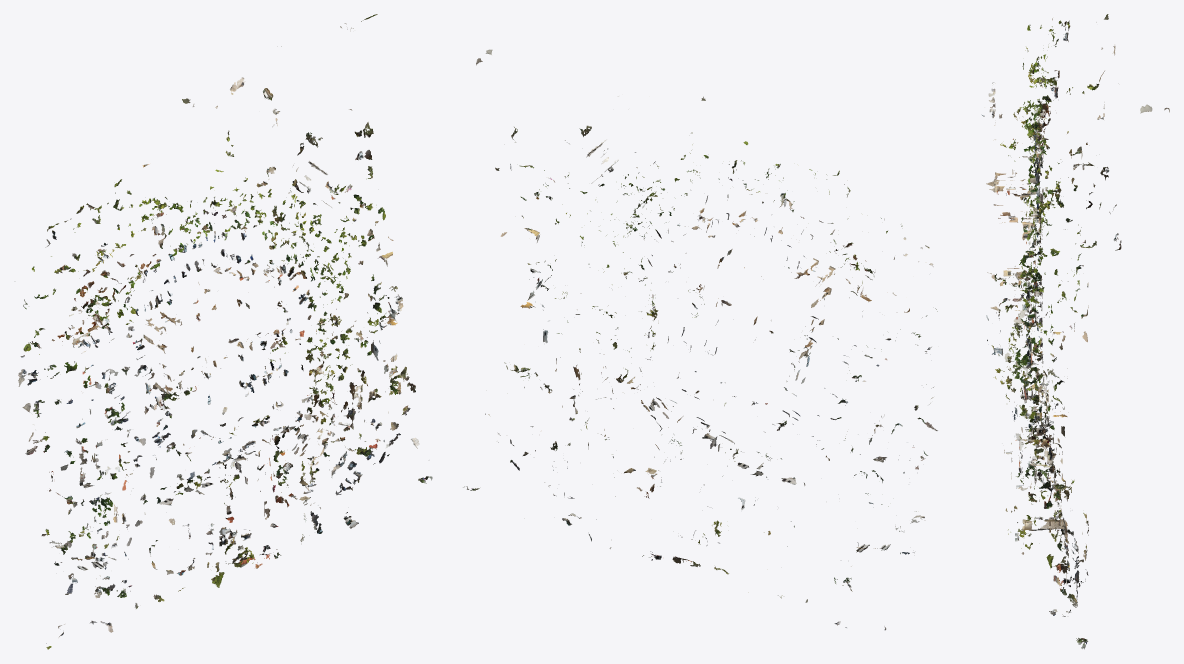
File: tile_3.glb
3 renders of one model, left to right at view 1: azimuth 30°, elevation 25°; view 2: azimuth 150°, elevation 25°; view 3: azimuth 270°, elevation 25°, orthographic. The views are drawn at different scales.
Size of the model in its own units: 207 by 239 by 67.07.
Materials: 6 (6 with a texture image).
